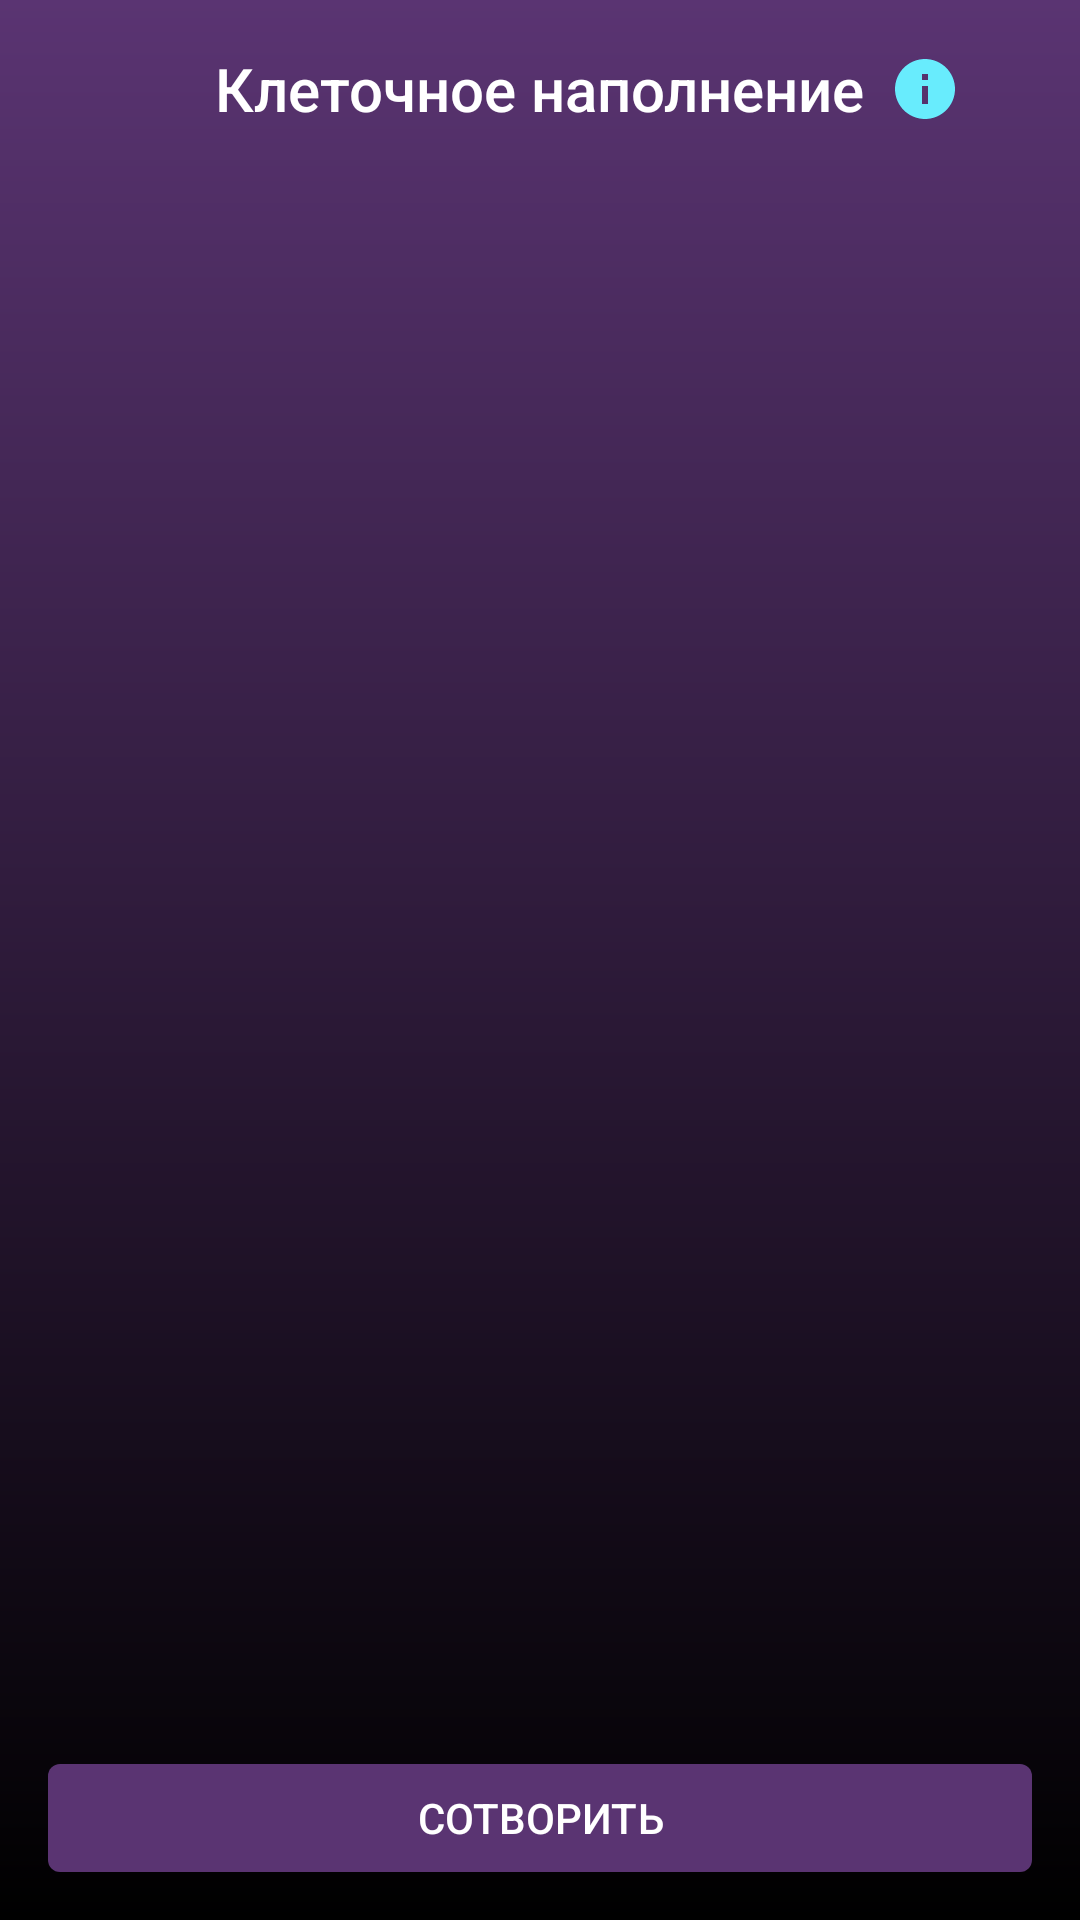

Icon click points for this 1080px x 1920px phone screenshot, format (x,y):
info: (925,89)
